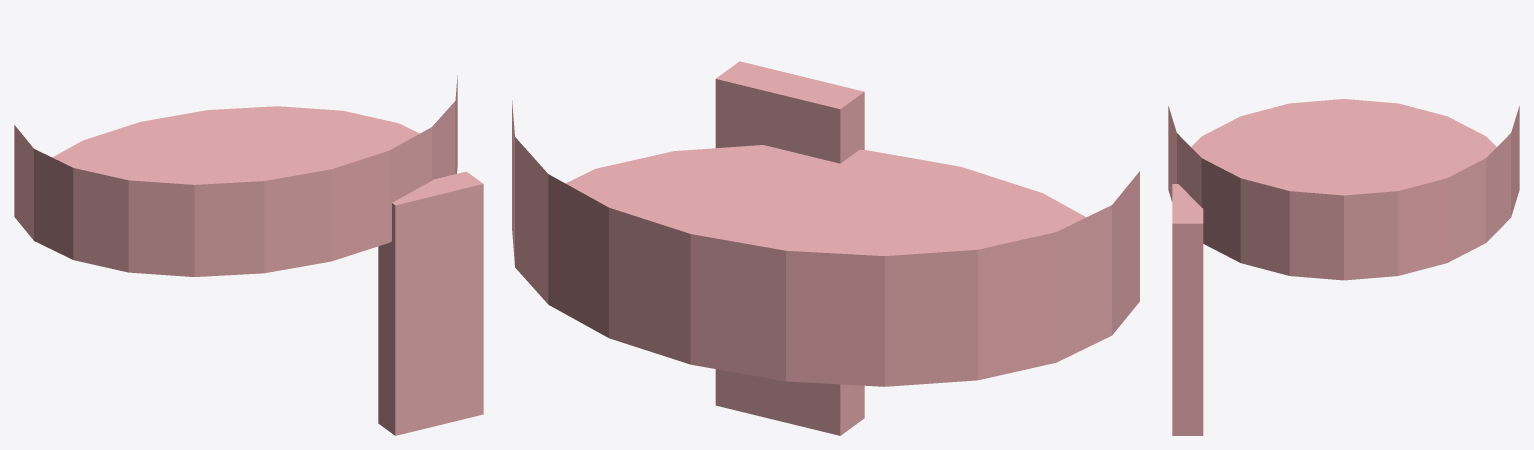
Rendered from scarf.glb.
3 views of the same model, side by side, from view 1: azimuth 30°, elevation 25°; view 2: azimuth 150°, elevation 25°; view 3: azimuth 270°, elevation 25° (orthographic). The views are drawn at different scales.
Visible parts, largest first — view 1: wrap, end; view 2: wrap, end; view 3: wrap, end.
Boxes of the visible parts, x1,y1,x2,y2 form: wrap: (14,75,457,276); end: (378,171,483,435); wrap: (512,100,1139,386); end: (715,61,864,435); wrap: (1168,99,1519,280); end: (1172,184,1203,435).
Bounding box in the file's own units: 0.55 × 0.37 × 0.45.
